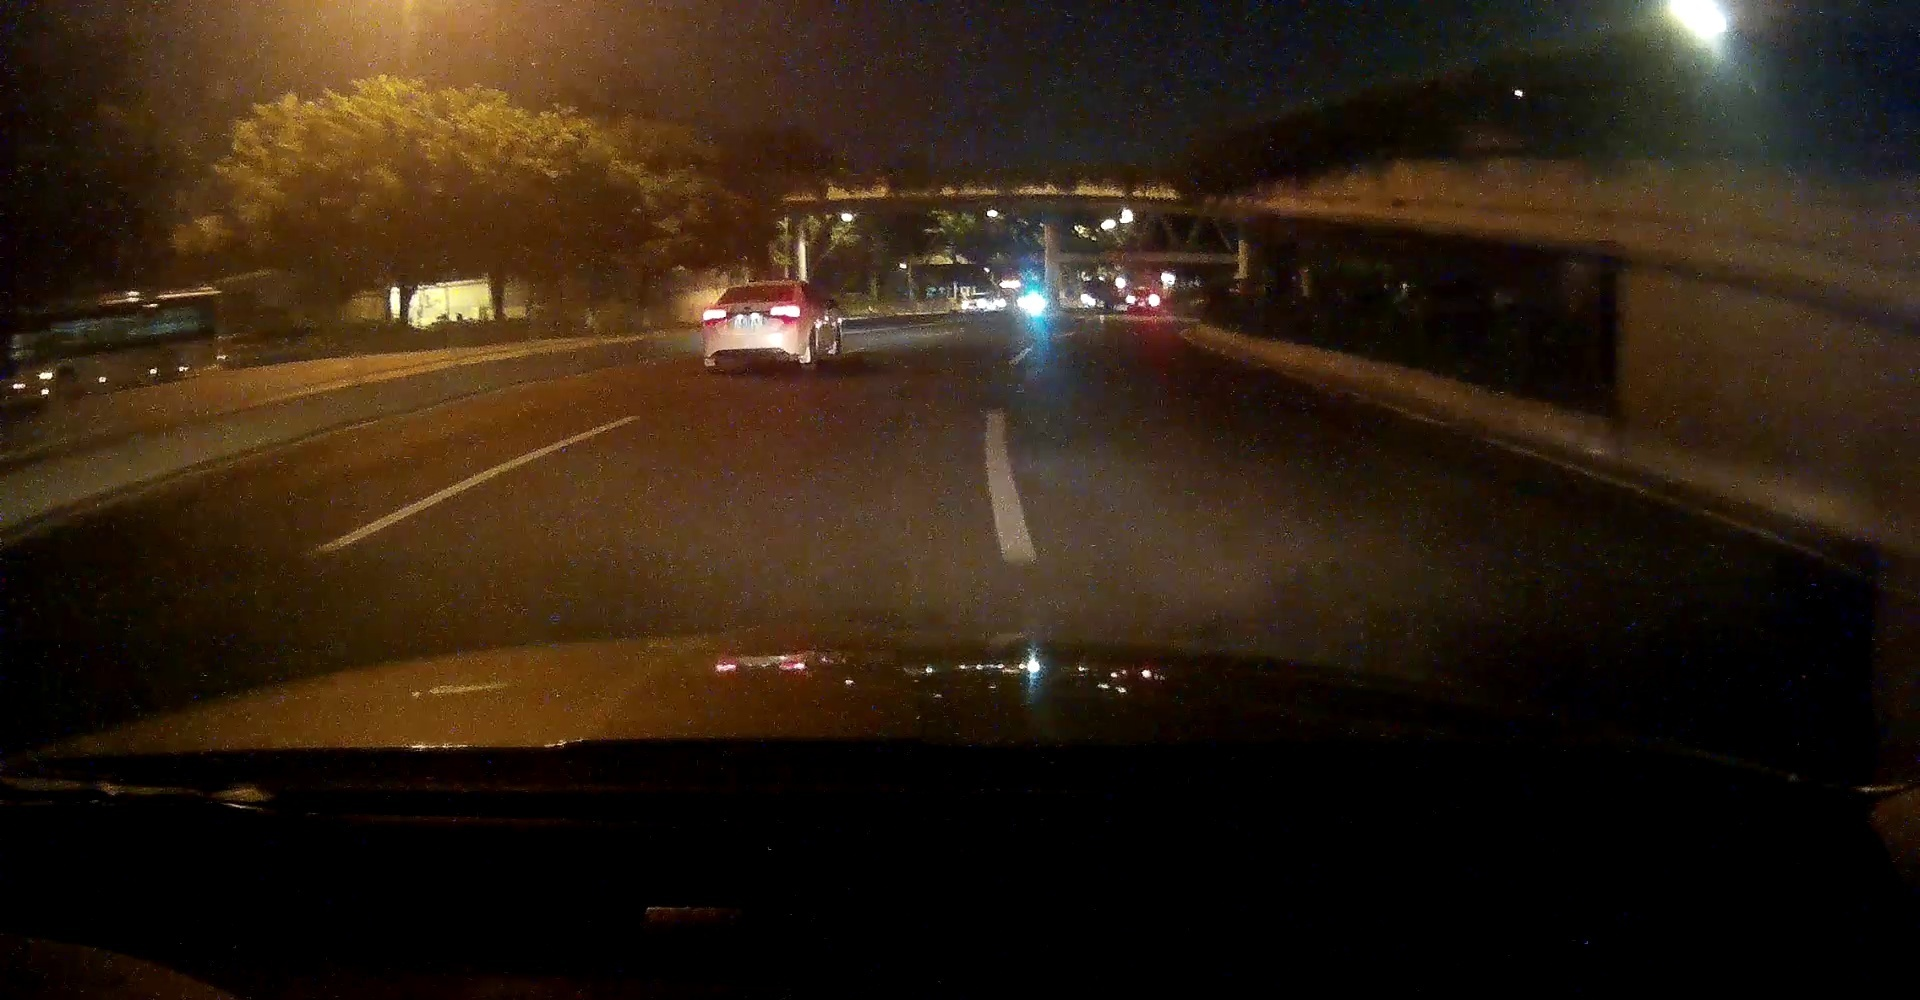L_light: (702, 308, 730, 327)
R_light: (770, 303, 800, 324)
T_light: (750, 282, 764, 288)
night-no: (701, 280, 804, 373)
